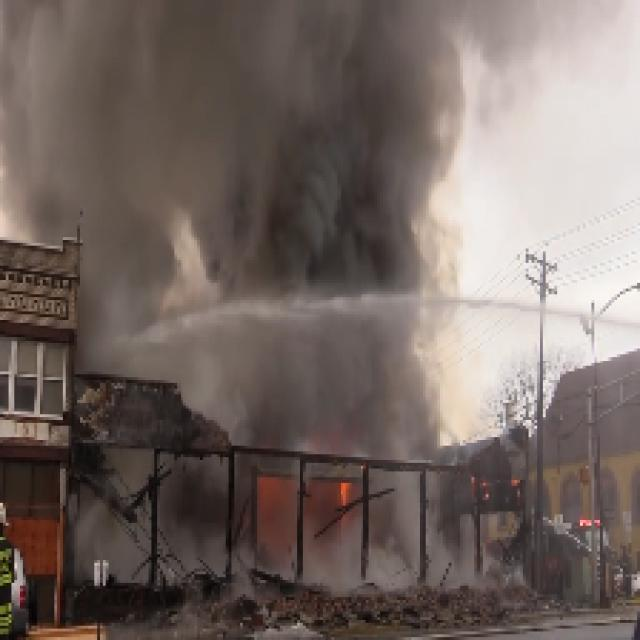Smoke: (23, 0, 404, 260), (206, 346, 434, 578)
